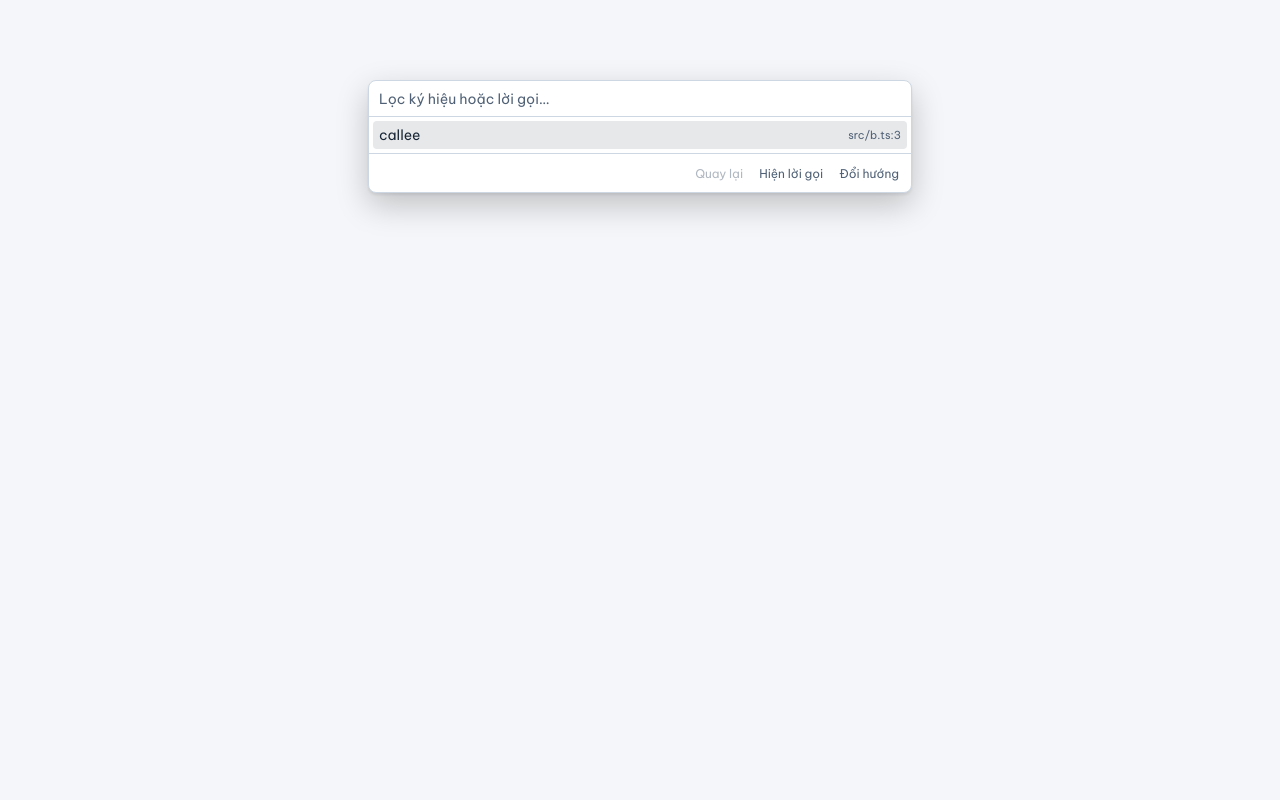
EditorTools › EditorTools E3 › phân cấp lời gọi › giữ chân picker và nút Quay lại khi drill-down rỗng
Click the text "callee".
click(400, 135)  # box [379,126,420,144]
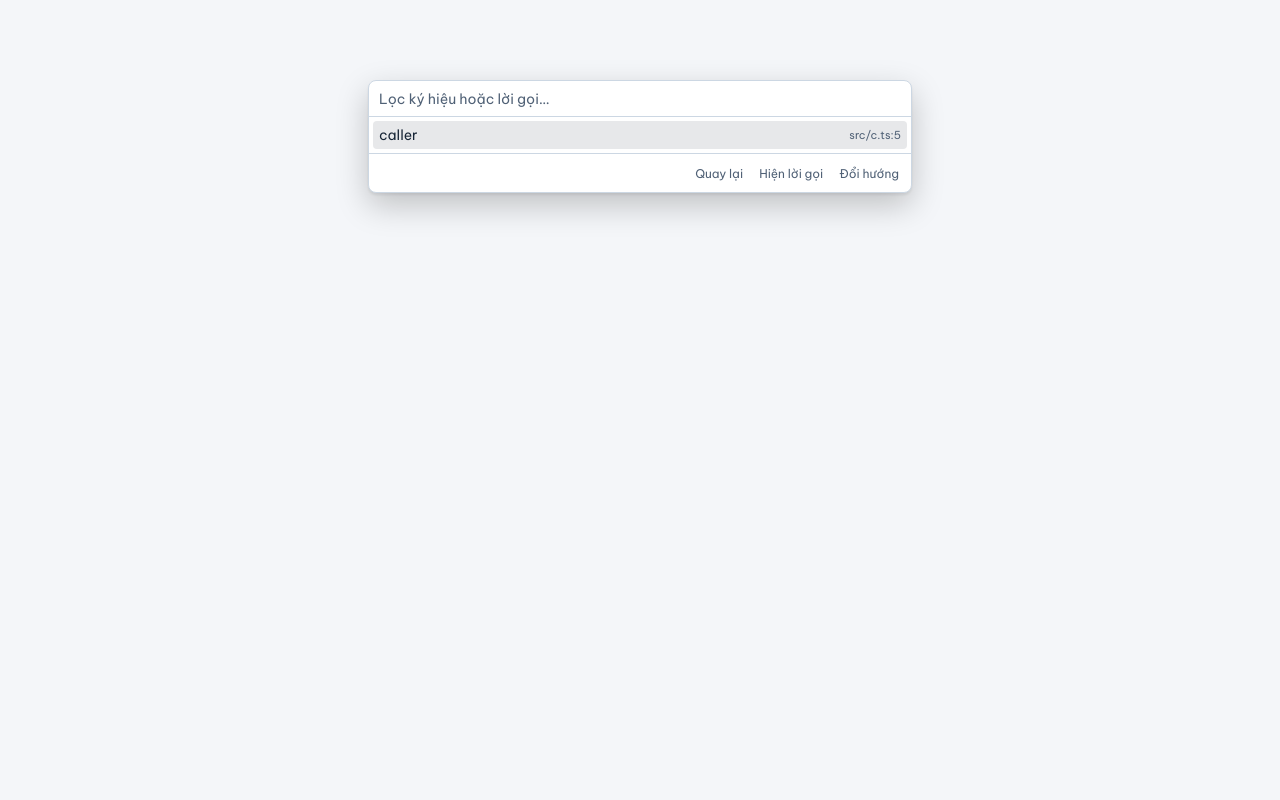
Expected: the text "caller" is shown, [379,126,418,144]
Click the button "Hiện lời gọi".
click(791, 173)  # box [753,160,829,186]
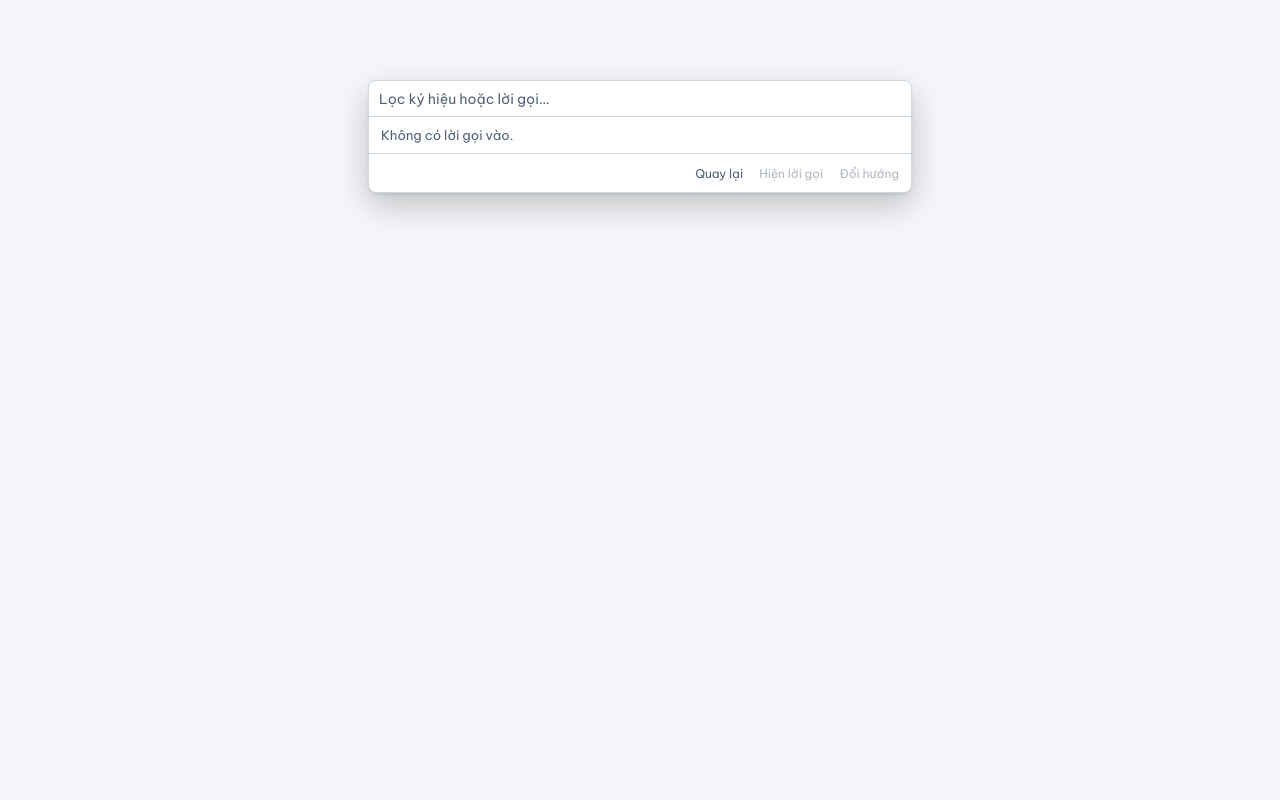
Expected: the text "Không có lời gọi vào." is shown, [381,127,513,143]
Expected: no options are shown
Click the button "Quay lại".
click(719, 173)  # box [689,160,749,186]
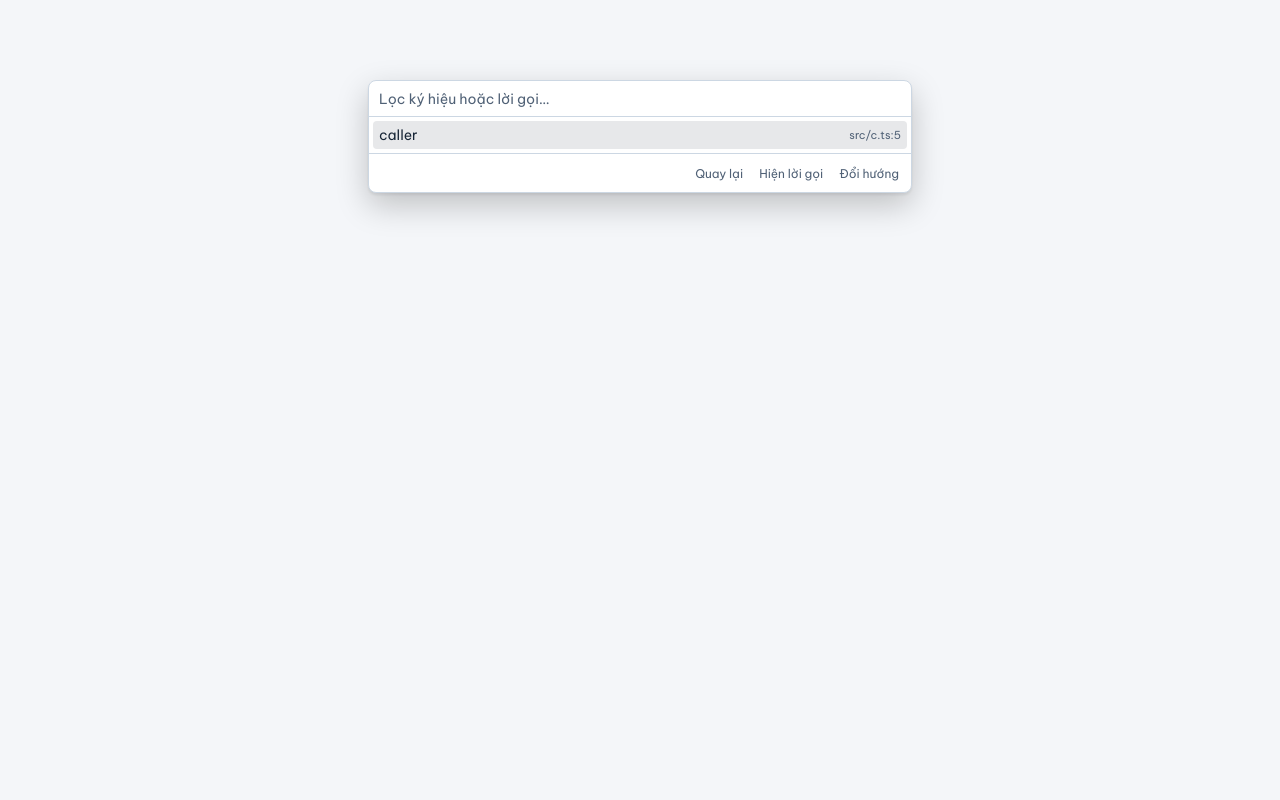
Expected: the text "caller" is shown, [379,126,418,144]
